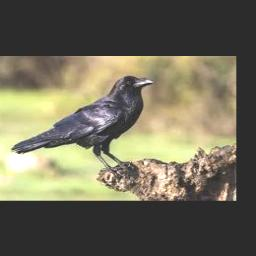Crow: (11, 75, 156, 176)
